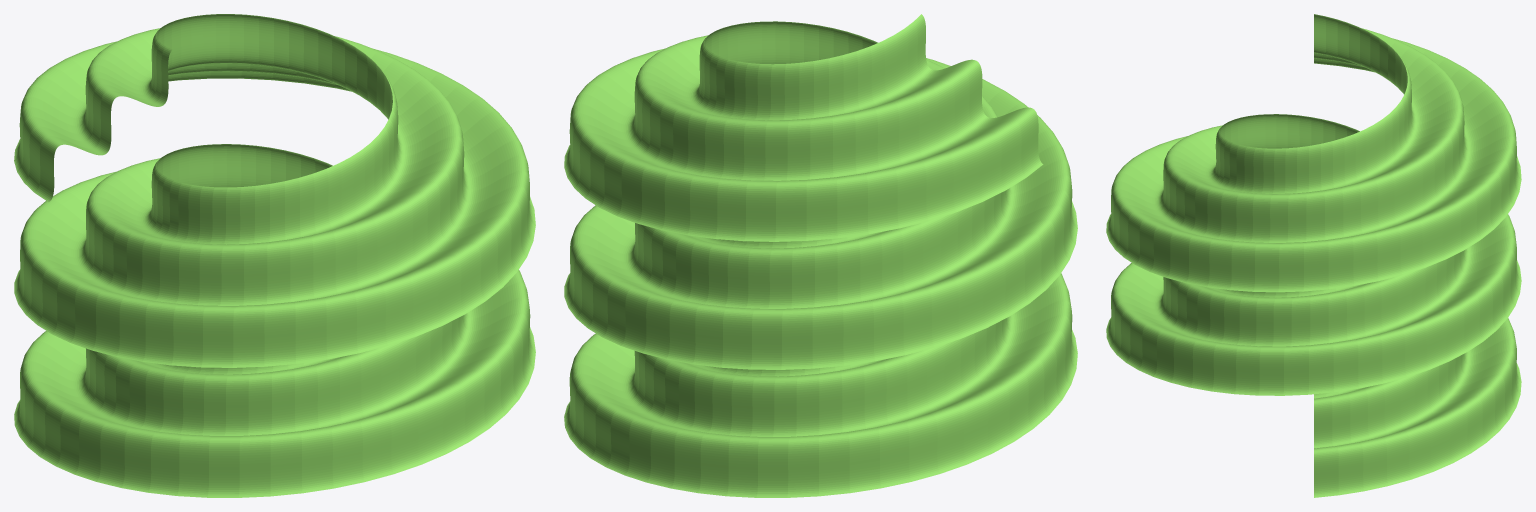
Rendered from sinysoida.glb.
The picture shows the model from 3 angles, left to right: view 1: azimuth 30°, elevation 25°; view 2: azimuth 150°, elevation 25°; view 3: azimuth 270°, elevation 25°; orthographic projection. The views are drawn at different scales.
Parts seen in each view (by area): view 1: sinusoida; view 2: sinusoida; view 3: sinusoida.
Part boxes in pixels (x1=…): sinusoida: x1=14, y1=14, x2=535, y2=497; sinusoida: x1=564, y1=14, x2=1077, y2=497; sinusoida: x1=1106, y1=14, x2=1521, y2=497.
Bounding box in the file's own units: 3.71 × 3.51 × 3.71.
